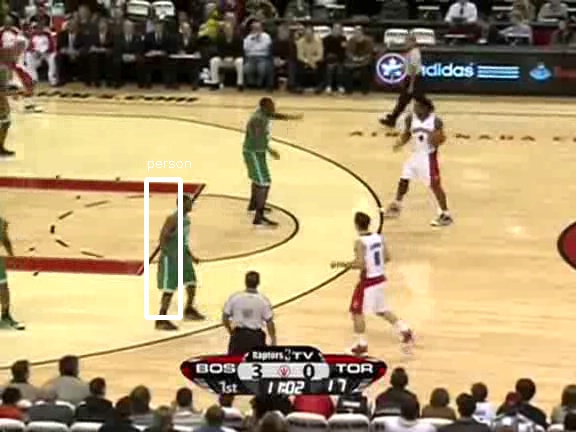person: (160, 215, 194, 296), (159, 215, 193, 296), (161, 215, 195, 296), (160, 214, 194, 295), (160, 216, 194, 297)
target_negative: (125, 201, 558, 417), (106, 367, 539, 404), (235, 331, 472, 387), (356, 299, 477, 364), (408, 338, 447, 384)
